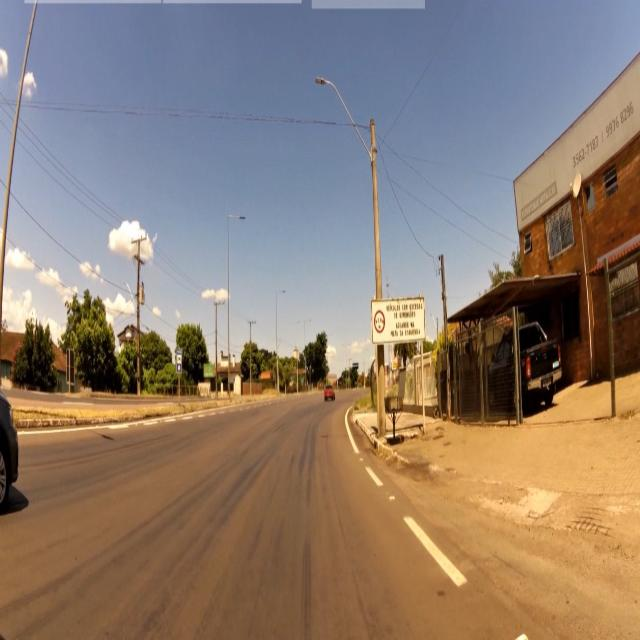E-5: (385, 302, 423, 338)
